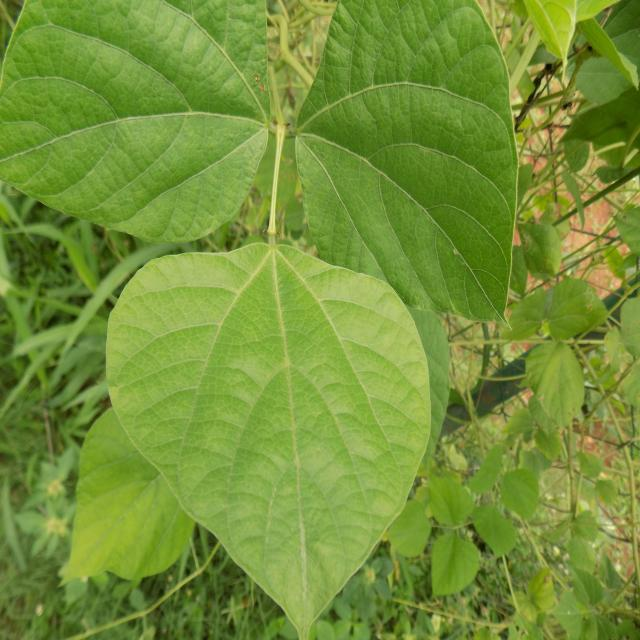Dolicos bean_healthy: (100, 235, 432, 640), (291, 0, 521, 325), (0, 0, 271, 236)
